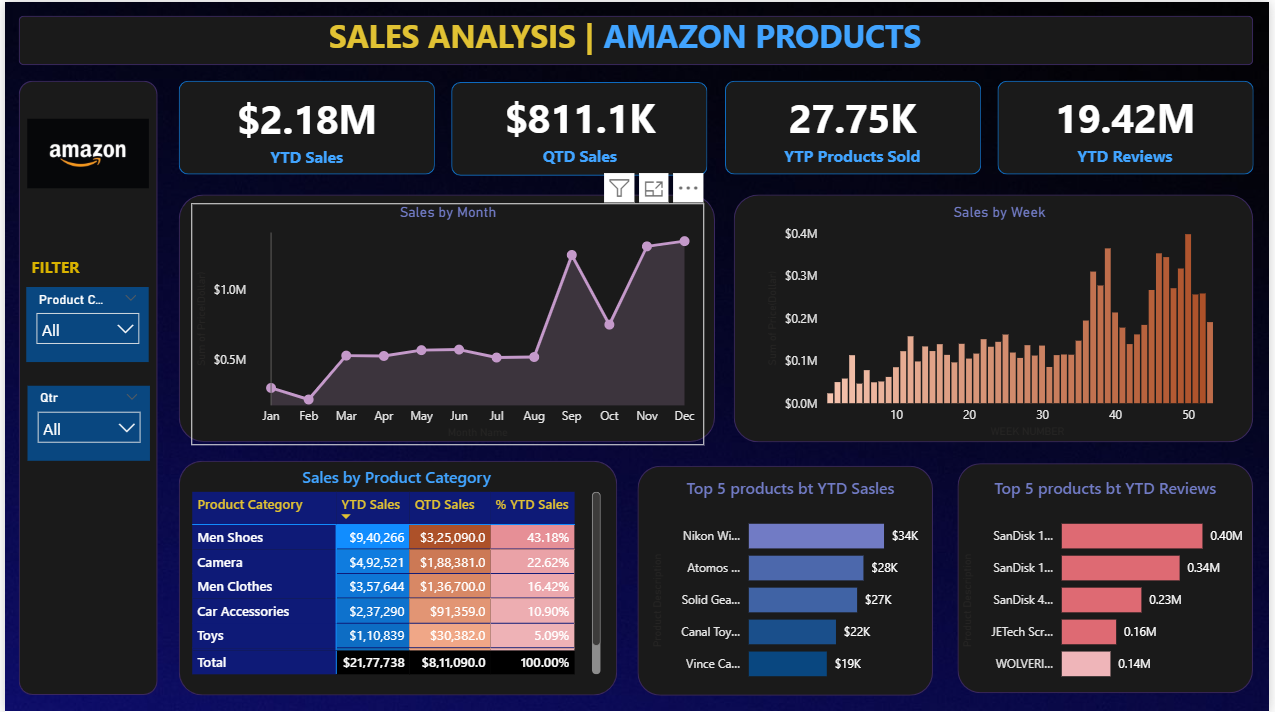

The page's visual inventory and layout, read from the dashboard file:
{"tool":"powerbi","page":{"name":"Page 1","canvas":[1280,720],"ordinal":0},"visuals":[{"type":"shape","box":[175.9,79.7,259.5,94.9],"z":0,"group":"g1"},{"type":"shape","box":[14.5,14.5,1250,50],"z":0},{"type":"textbox","box":[322.4,7.9,635.5,63.2],"z":1000},{"type":"card","fields":{"Values":["Amazon_Data.YTD Sales"]},"box":[191.1,88.6,229.1,79.7],"z":1000,"group":"g1"},{"type":"shape","box":[452.3,81,259.5,94.9],"z":2000,"group":"g1"},{"type":"shape","box":[13.9,79.7,140.5,622],"z":2000},{"type":"card","fields":{"Values":["Amazon_Data.QTD Sales"]},"box":[491.1,83.5,182.3,87.3],"z":3000,"group":"g1"},{"type":"group","id":"g1","title":"Group 1","box":[175.9,79.7,1088.6,96.2],"z":3000},{"type":"shape","box":[728.6,79.7,259.5,94.9],"z":4000,"group":"g1"},{"type":"shape","box":[175.9,194.9,543,250.6],"z":4000},{"type":"shape","box":[1005,79.7,259.5,94.9],"z":5000,"group":"g1"},{"type":"areaChart","title":"Sales by Month","fields":{"Category":["Date Table.Month Name"],"Y":["Sum(Amazon_Data.Price(Dollar))"]},"box":[188.2,203.9,520,243.7],"z":5000},{"type":"card","fields":{"Values":["Amazon_Data.YTP Products Sold"]},"box":[767,83.5,182.3,87.3],"z":6000,"group":"g1"},{"type":"shape","box":[738.3,195.4,526,250.9],"z":6000},{"type":"card","fields":{"Values":["Amazon_Data.YTD Reviews"]},"box":[1043,83.5,182.3,87.3],"z":7000,"group":"g1"},{"type":"columnChart","title":"Sales by Week","fields":{"Category":["Date Table.WEEK NUMBER"],"Y":["Sum(Amazon_Data.Price(Dollar))"]},"box":[767.3,203.9,480.2,242.5],"z":7000},{"type":"shape","box":[176.1,464.5,444,237.7],"z":8000},{"type":"pivotTable","title":"Sales by Product Category","fields":{"Rows":["Amazon_Data.Product Category"],"Values":["Amazon_Data.YTD Sales1","Amazon_Data.QTD Sales","Amazon_Data.YTD Sales"]},"box":[184.6,469.3,423.5,216],"z":9000},{"type":"shape","box":[640.6,469.3,299.2,232.8],"z":10000},{"type":"shape","box":[965.2,466.9,299.2,232.8],"z":11000},{"type":"clusteredBarChart","title":"Top 5 products bt YTD Sasles","fields":{"Category":["Amazon_Data.Product Description"],"Y":["Amazon_Data.YTD Sales"]},"box":[650.3,481.4,289.5,220.8],"z":12000},{"type":"clusteredBarChart","title":"Top 5 products bt YTD Reviews","fields":{"Category":["Amazon_Data.Product Description"],"Y":["Amazon_Data.YTD Reviews"]},"box":[965.2,481.4,299.2,220.8],"z":13000},{"type":"slicer","fields":{"Values":["Amazon_Data.Product Category"]},"box":[21.7,288.3,124.3,76],"z":14000},{"type":"slicer","fields":{"Values":["Date Table.Qtr"]},"box":[22.9,388.5,124.3,76],"z":15000},{"type":"image","box":[18.1,88.1,132.7,129.1],"z":16000},{"type":"textbox","box":[21.7,252.1,76,36.2],"z":17000}]}

Visuals, with their boxes in screenshot pixels (x1, y1, x2, y2), scaled from the page's 1280x720 canvas onto the 1275x712 screenshot:
shape: box(175, 79, 434, 173)
shape: box(14, 14, 1260, 64)
textbox: box(321, 8, 954, 70)
card - Amazon_Data.YTD Sales: box(190, 88, 419, 166)
shape: box(451, 80, 709, 174)
shape: box(14, 79, 154, 694)
card - Amazon_Data.QTD Sales: box(489, 83, 671, 169)
"Group 1" group: box(175, 79, 1260, 174)
shape: box(726, 79, 984, 173)
shape: box(175, 193, 716, 441)
shape: box(1001, 79, 1260, 173)
"Sales by Month" areaChart: box(187, 202, 705, 443)
card - Amazon_Data.YTP Products Sold: box(764, 83, 946, 169)
shape: box(735, 193, 1259, 441)
card - Amazon_Data.YTD Reviews: box(1039, 83, 1221, 169)
"Sales by Week" columnChart: box(764, 202, 1243, 441)
shape: box(175, 459, 618, 694)
"Sales by Product Category" pivotTable: box(184, 464, 606, 678)
shape: box(638, 464, 936, 694)
shape: box(961, 462, 1259, 692)
"Top 5 products bt YTD Sasles" clusteredBarChart: box(648, 476, 936, 694)
"Top 5 products bt YTD Reviews" clusteredBarChart: box(961, 476, 1259, 694)
slicer - Amazon_Data.Product Category: box(22, 285, 145, 360)
slicer - Date Table.Qtr: box(23, 384, 147, 459)
image: box(18, 87, 150, 215)
textbox: box(22, 249, 97, 285)
